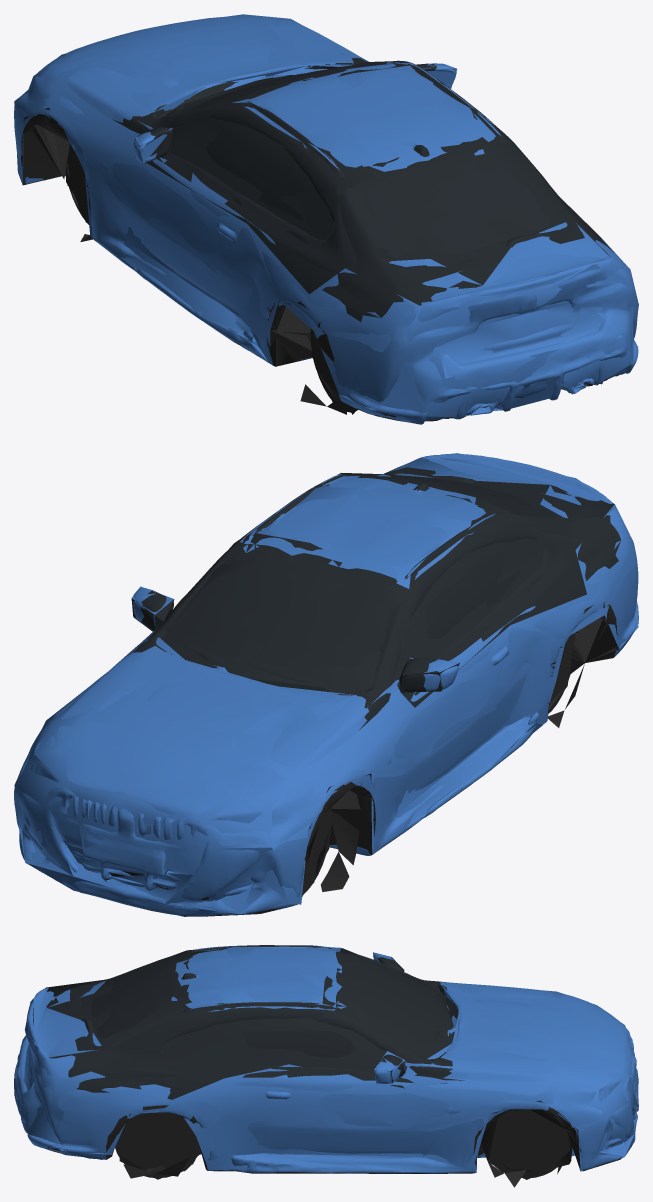
The model's file is bmw-2-series.glb.
3 renders of one model, top to bottom at view 1: azimuth 30°, elevation 25°; view 2: azimuth 150°, elevation 25°; view 3: azimuth 270°, elevation 25°, orthographic. The views are drawn at different scales.
Parts seen in each view (by area): view 1: body, far; view 2: body, far; view 3: body, far.
Boxes of the visible parts, x1,y1,x2,y2 form: body: (14, 16, 638, 424); far: (14, 14, 638, 417); body: (14, 454, 638, 916); far: (14, 453, 638, 916); body: (14, 945, 638, 1187); far: (14, 946, 638, 1179).
Size of the model in its own units: 2.08 by 1.41 by 4.68.
